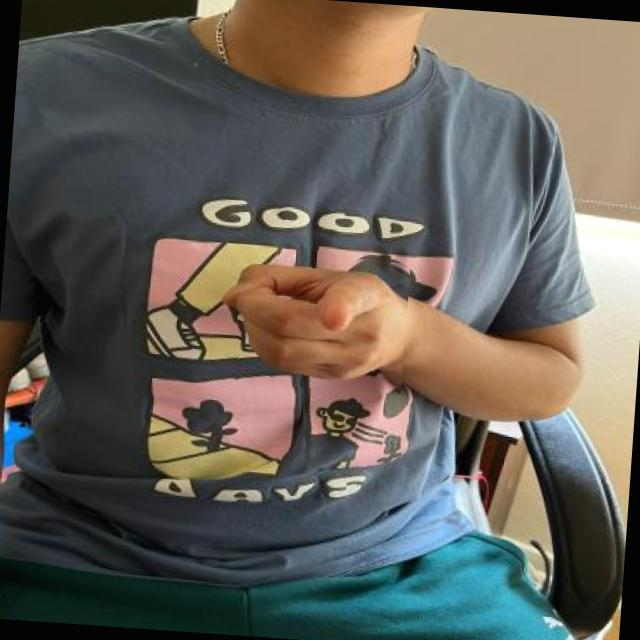X: (218, 245, 410, 394)
